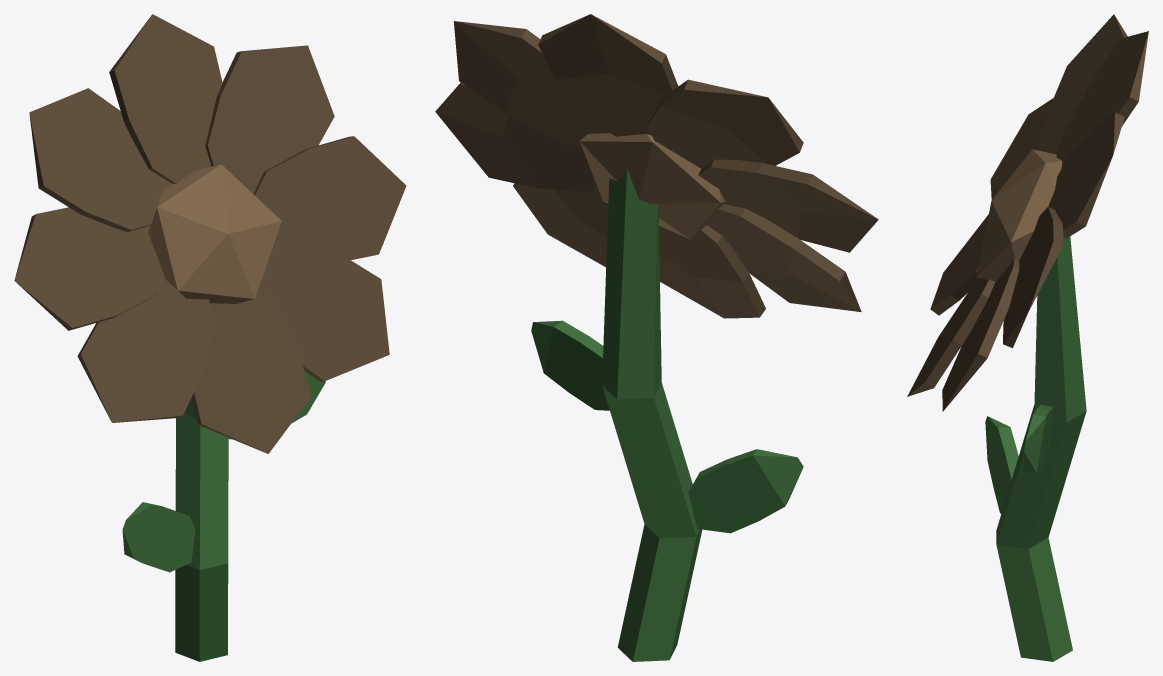
Rendered from Flower_4_Brown.fbx.
3 views of the same model, side by side, from view 1: azimuth 30°, elevation 25°; view 2: azimuth 150°, elevation 25°; view 3: azimuth 270°, elevation 25° (orthographic). The views are drawn at different scales.
Parts seen in each view (by area): view 1: Flower_4_Brown_Part_1, Flower_4_Brown_Part_3, Flower_4_Brown_Part_2; view 2: Flower_4_Brown_Part_1, Flower_4_Brown_Part_3, Flower_4_Brown_Part_2; view 3: Flower_4_Brown_Part_1, Flower_4_Brown_Part_3, Flower_4_Brown_Part_2.
Boxes of the visible parts, box(x1,y1,x2,y2) form: Flower_4_Brown_Part_1: box(14, 14, 406, 453); Flower_4_Brown_Part_3: box(122, 370, 325, 661); Flower_4_Brown_Part_2: box(148, 164, 281, 303); Flower_4_Brown_Part_1: box(435, 14, 878, 318); Flower_4_Brown_Part_3: box(531, 168, 803, 661); Flower_4_Brown_Part_2: box(579, 133, 725, 239); Flower_4_Brown_Part_1: box(907, 14, 1148, 411); Flower_4_Brown_Part_3: box(985, 236, 1086, 661); Flower_4_Brown_Part_2: box(976, 149, 1062, 281).
Bounding box in the file's own units: 32.5 × 47.45 × 16.79.
